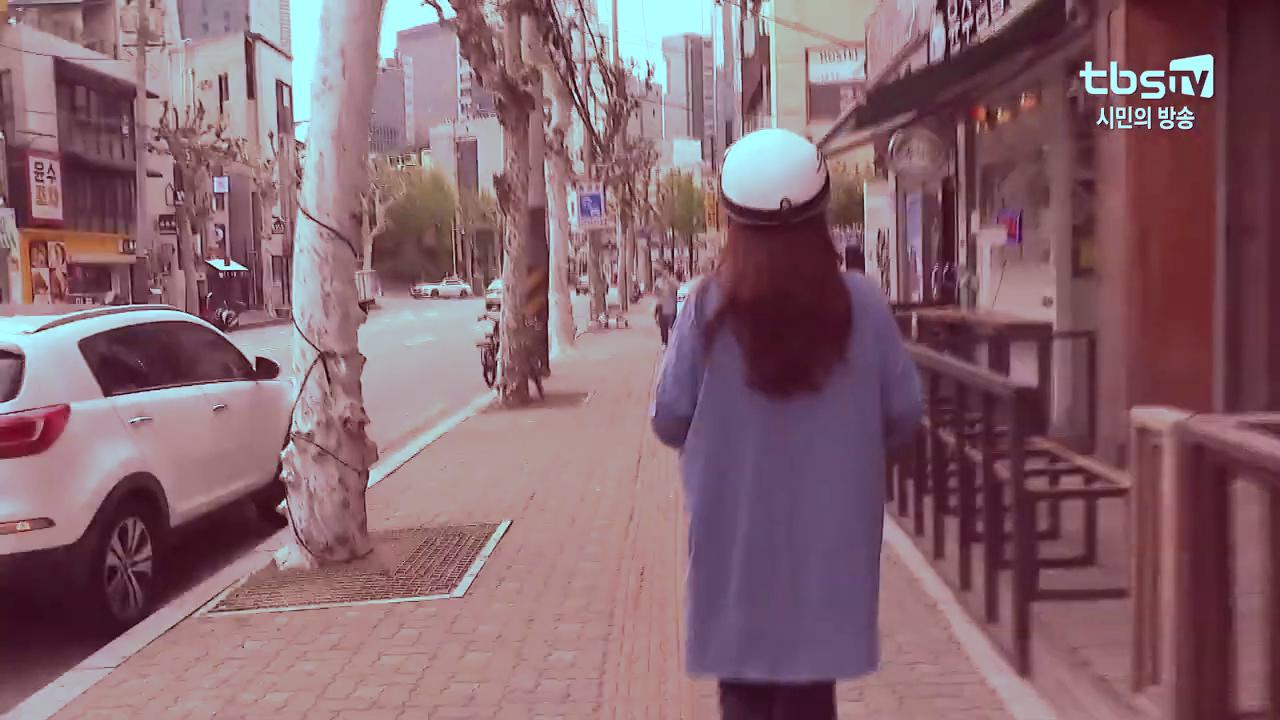helmet: (651, 127, 930, 720)
